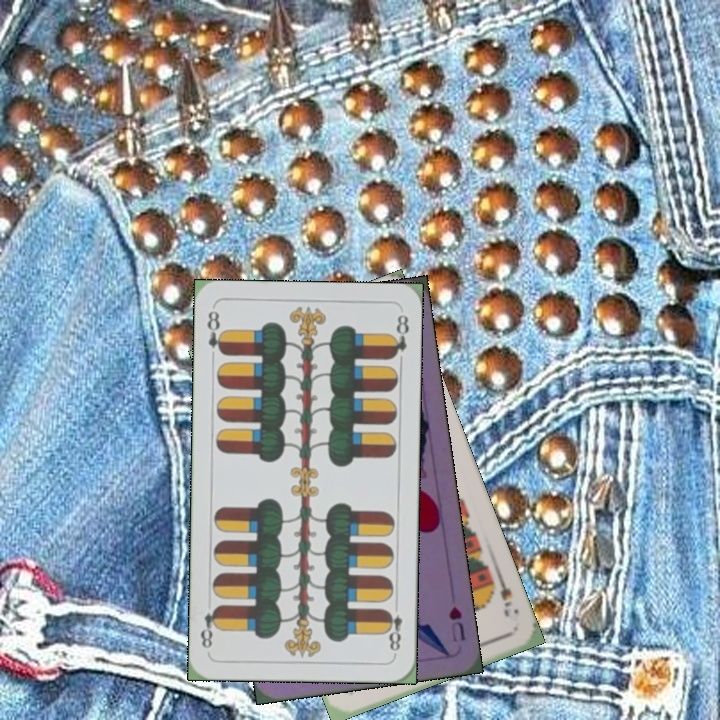E8: (381, 598, 405, 657), (203, 307, 228, 358)
HU: (445, 602, 468, 645)
S9: (485, 568, 515, 620)
